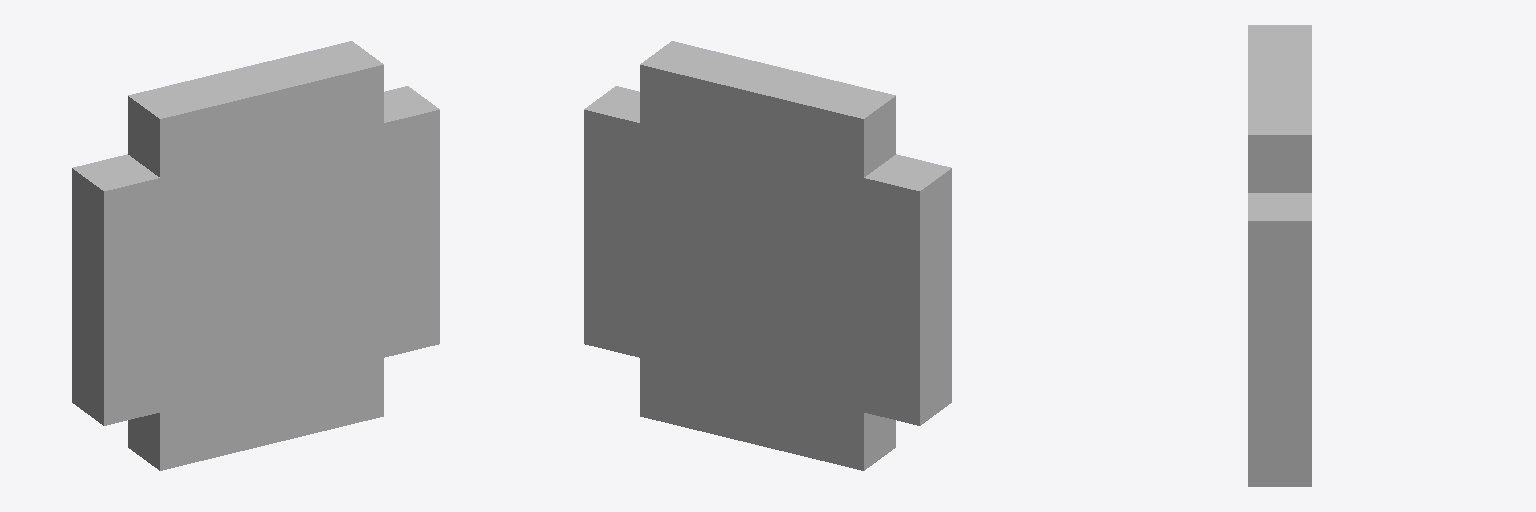
Rendered from Coin.obj.
3 renders of one model, left to right at view 1: azimuth 30°, elevation 25°; view 2: azimuth 150°, elevation 25°; view 3: azimuth 270°, elevation 25°, orthographic.
Visible parts, largest first — view 1: object 1; view 2: object 1; view 3: object 1.
Part boxes in pixels (left/top/right/bottom): object 1: left=72, top=41, right=439, bottom=470; object 1: left=584, top=41, right=951, bottom=470; object 1: left=1248, top=25, right=1311, bottom=486.
Size of the model in its own units: 0.6 by 0.6 by 0.1.